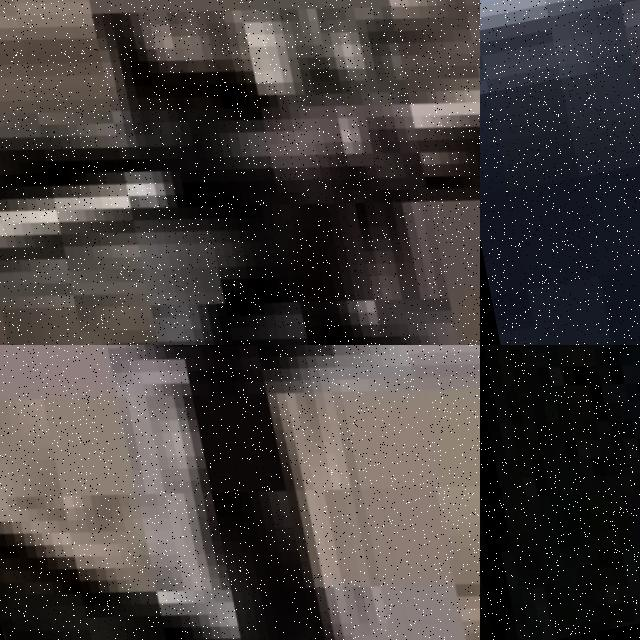drone: (0, 0, 480, 345), (0, 345, 480, 640), (480, 345, 640, 640)
